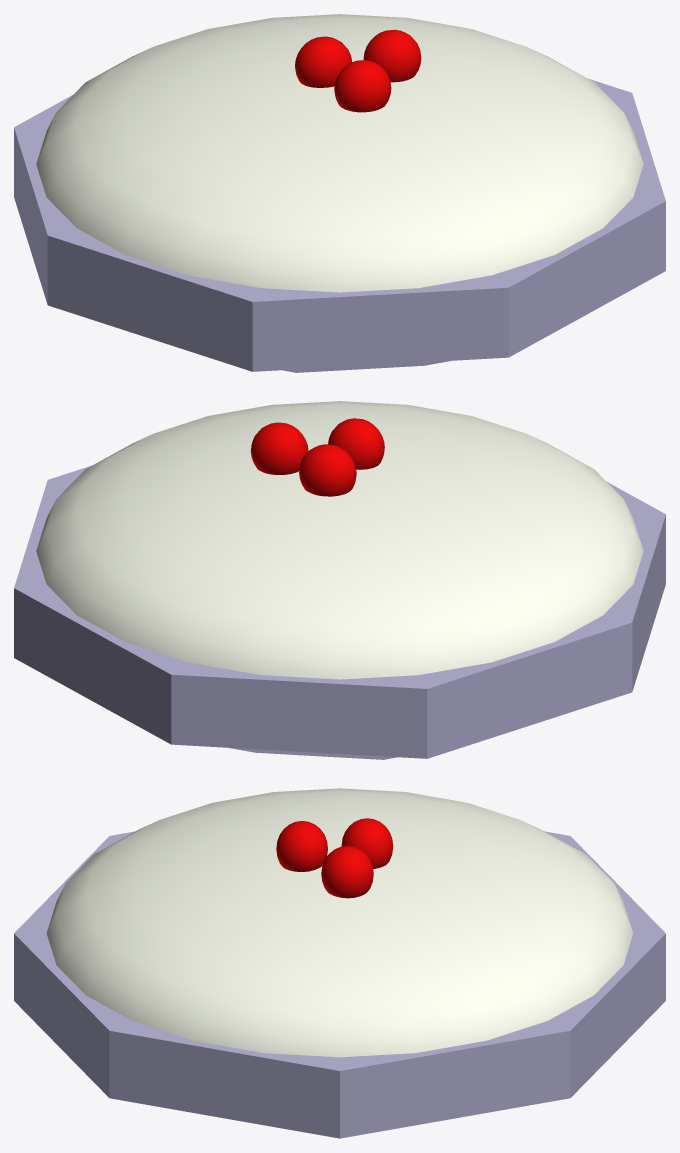
Rendered from pie.glb.
3 renders of one model, top to bottom at view 1: azimuth 30°, elevation 25°; view 2: azimuth 150°, elevation 25°; view 3: azimuth 270°, elevation 25°, orthographic. The views are drawn at different scales.
Visible parts, largest first — view 1: mergedBlocks(Clone); view 2: mergedBlocks(Clone); view 3: mergedBlocks(Clone).
Boxes of the visible parts, <box> form: mergedBlocks(Clone): <box>14,14,665,372</box>; mergedBlocks(Clone): <box>14,401,665,759</box>; mergedBlocks(Clone): <box>14,788,665,1138</box>.
Size of the model in its own units: 0.441 by 0.184 by 0.441.
